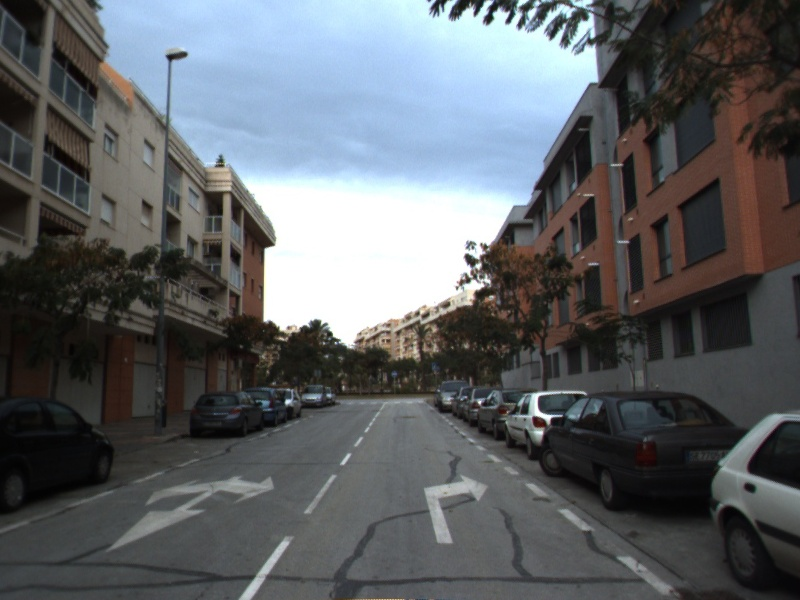RIGHT: (422, 472, 490, 545)
